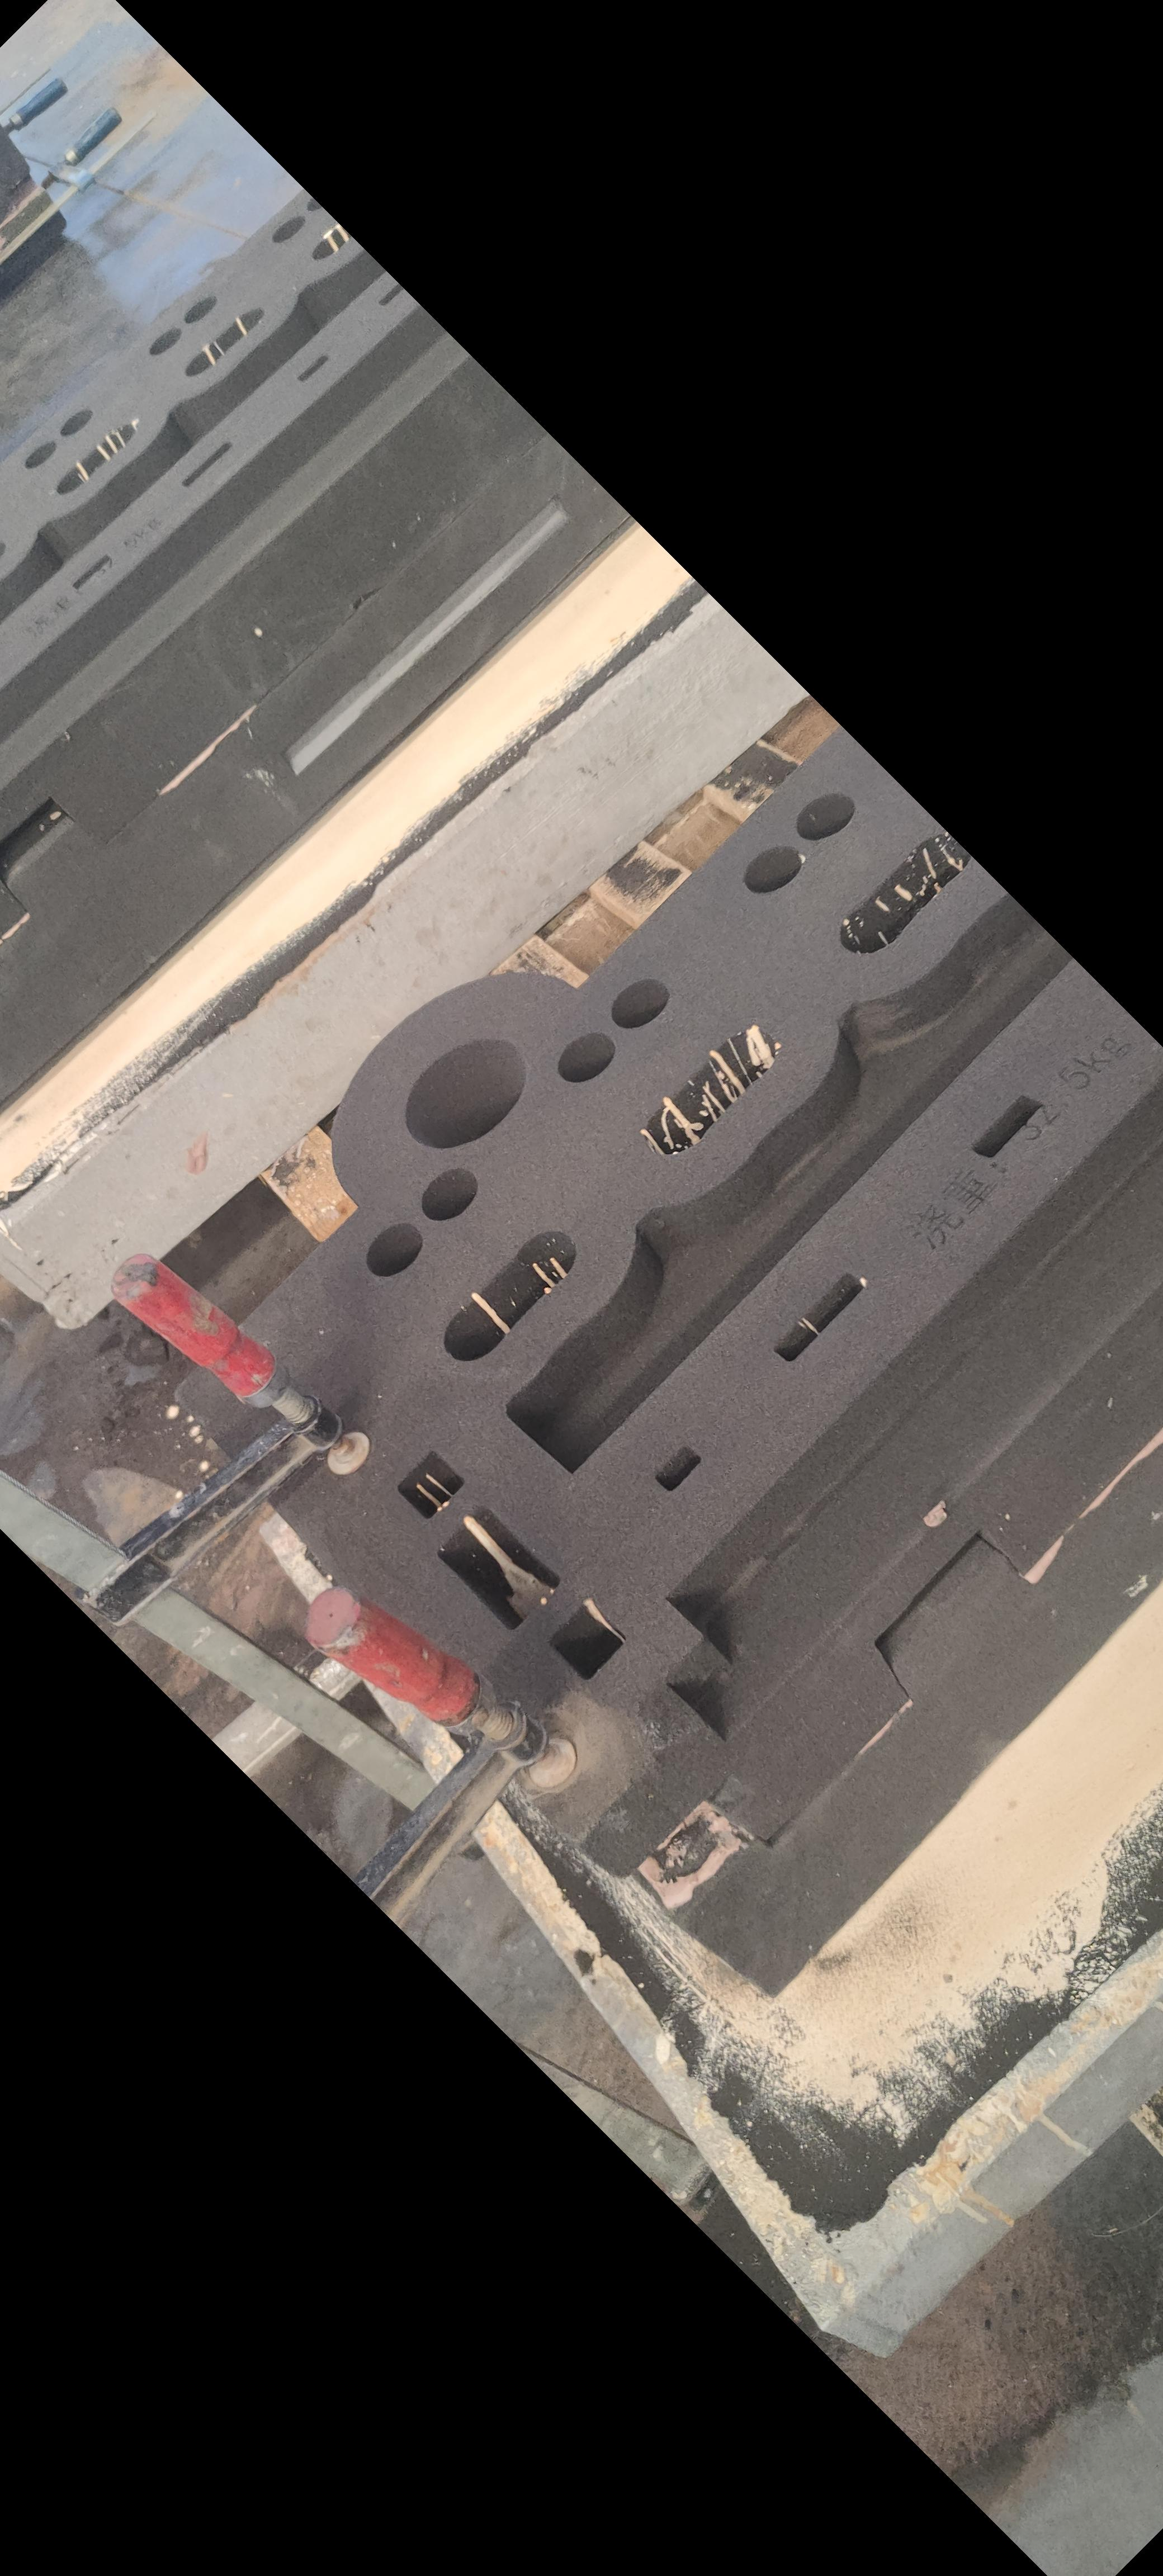pouring hole: (406, 1040, 526, 1148)
